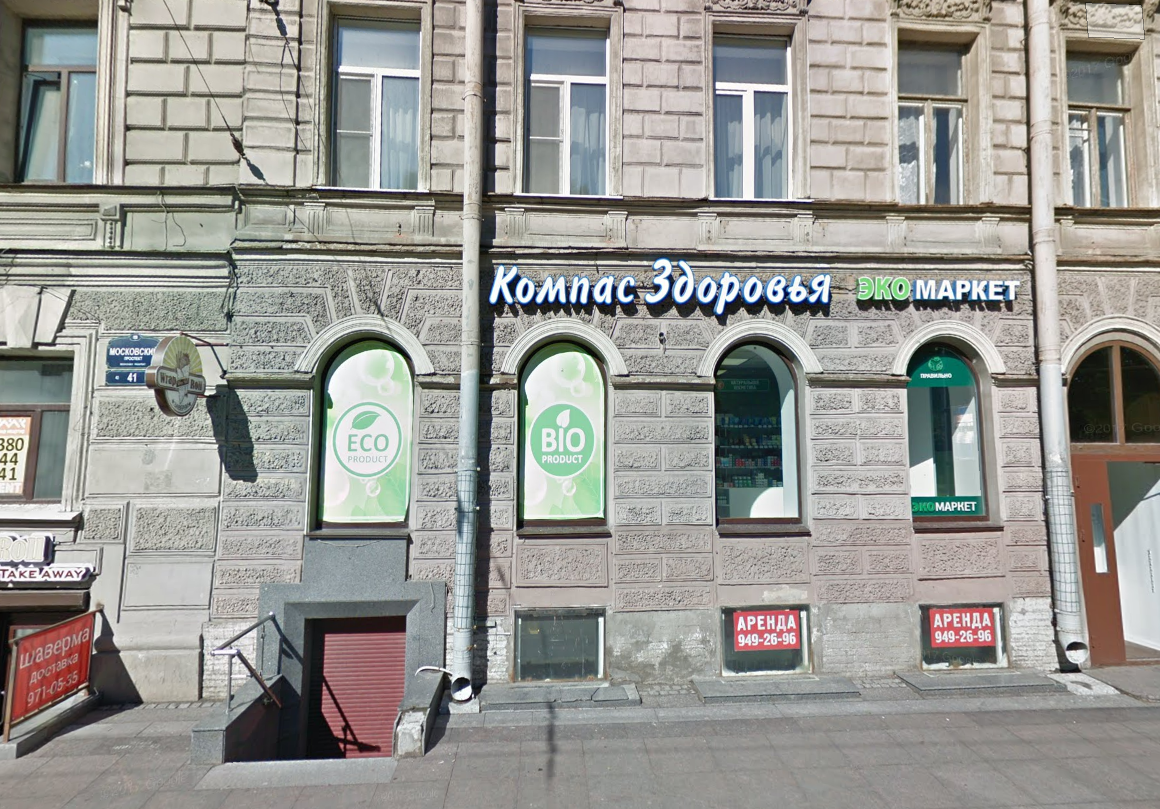cantilever: (149, 322, 229, 421)
door: (1069, 450, 1160, 664)
signboard: (475, 254, 838, 320), (848, 268, 1023, 318)
window: (709, 332, 814, 538), (901, 330, 1008, 532), (310, 334, 418, 531), (516, 333, 608, 534), (328, 21, 423, 191), (7, 21, 100, 189), (522, 24, 609, 196), (713, 31, 798, 198), (1, 352, 73, 513), (894, 41, 962, 211), (1067, 51, 1129, 210), (712, 601, 817, 676), (511, 606, 608, 686), (914, 600, 1012, 668)
